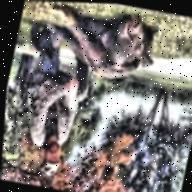boar: (57, 2, 175, 96)
